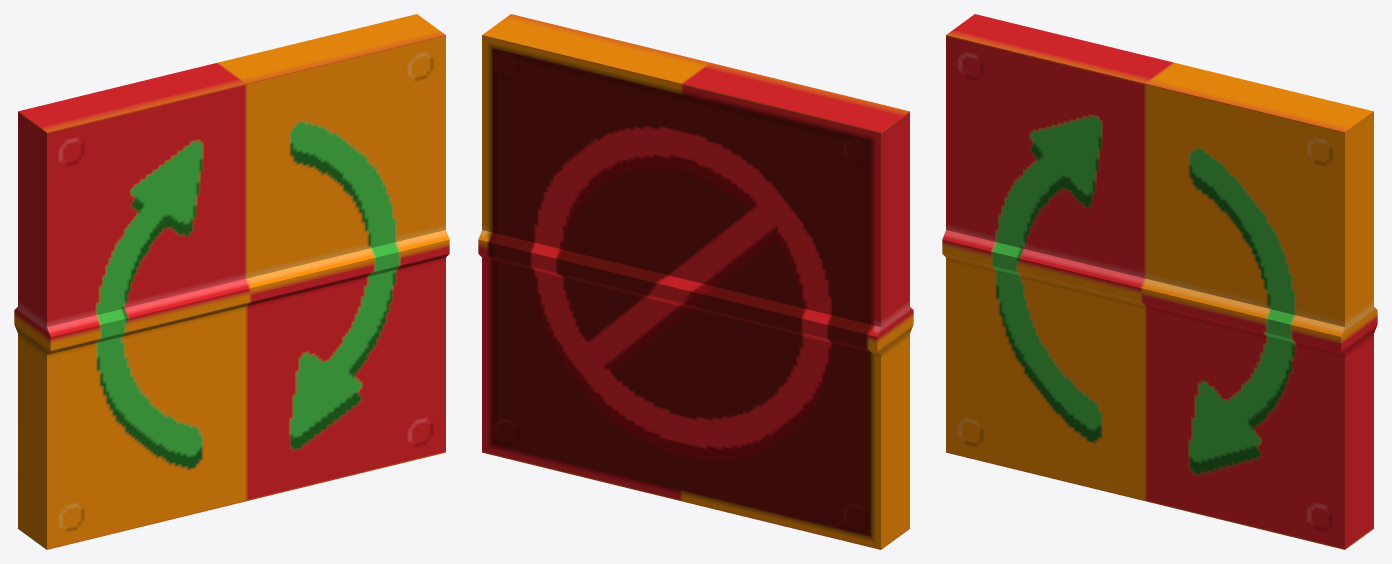
Rendered from Fbx_OneWayWall.fbx.
The picture shows the model from 3 angles, left to right: view 1: azimuth 30°, elevation 25°; view 2: azimuth 150°, elevation 25°; view 3: azimuth 330°, elevation 25°; orthographic projection.
Visible parts, largest first — view 1: Cube; view 2: Cube; view 3: Cube.
Part boxes in pixels (left/top/right/bottom): Cube: left=14, top=14, right=449, bottom=549; Cube: left=478, top=14, right=913, bottom=549; Cube: left=942, top=14, right=1377, bottom=549.
Size of the model in its own units: 2 by 2 by 0.3158.
Materials: 1 (1 with a texture image).
